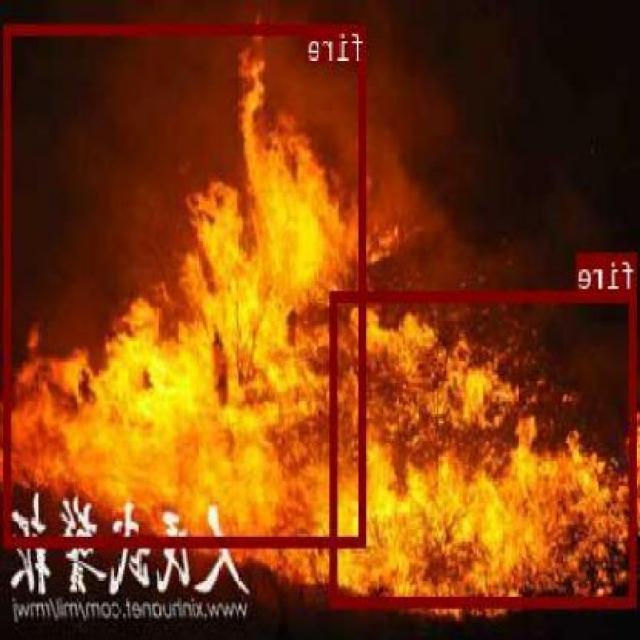fire: (5, 23, 367, 546), (332, 290, 638, 606)
